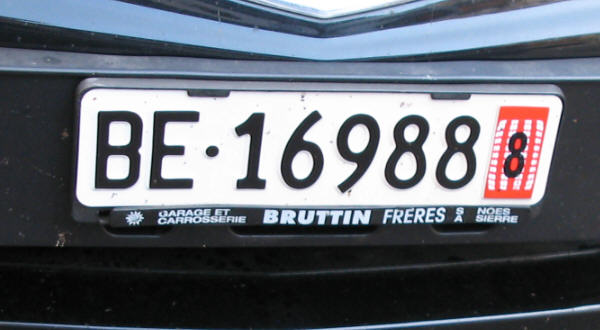license_plate: (75, 86, 564, 208)
